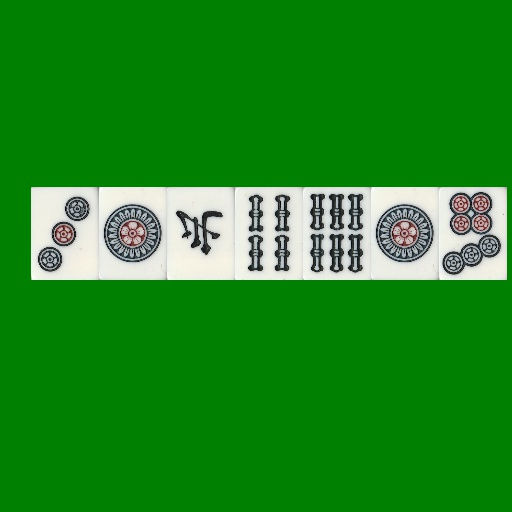1p: (99, 187, 167, 280), (371, 187, 439, 280)
3p: (31, 187, 99, 280)
4s: (235, 187, 303, 280)
6s: (303, 187, 371, 280)
7p: (439, 187, 507, 280)
north: (167, 187, 235, 280)
